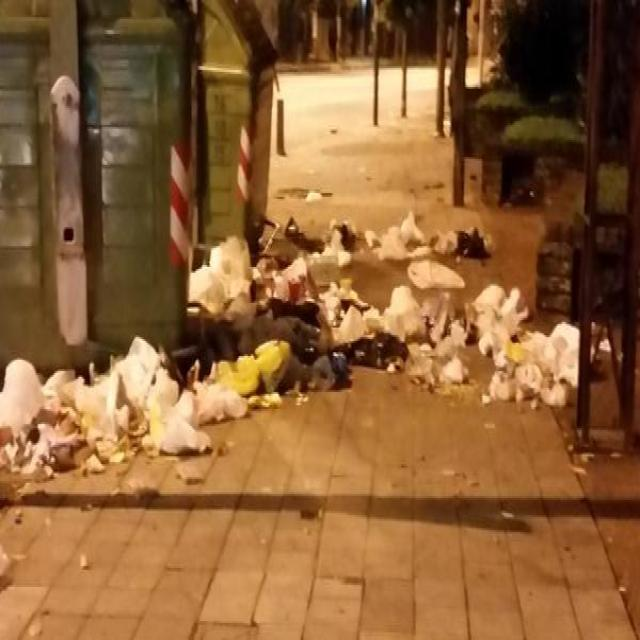garbage: (342, 214, 580, 420), (0, 322, 257, 482), (189, 199, 369, 392)
